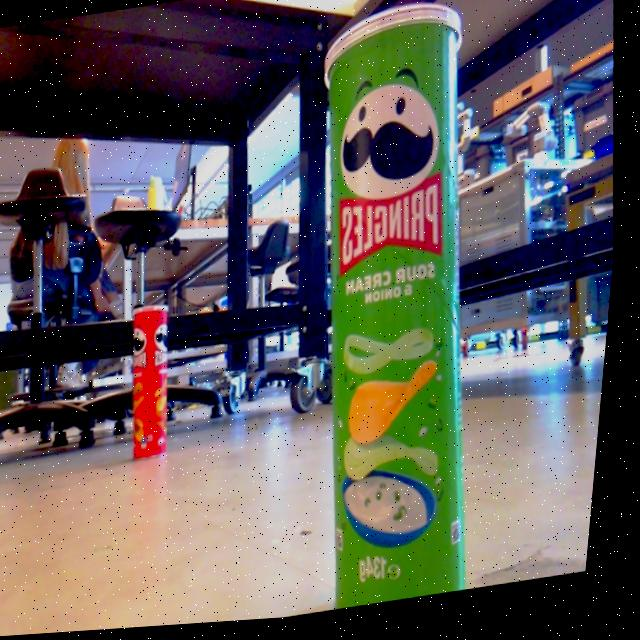greenpringles: (271, 0, 535, 620)
redpringles: (107, 287, 201, 463)
